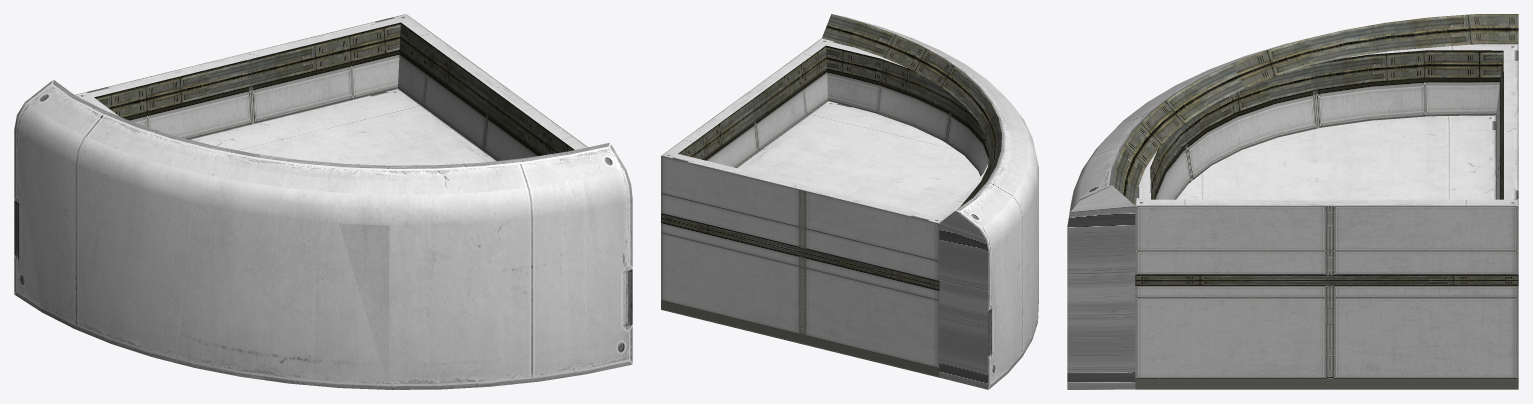
Rendered from Emb_BalconyPlanter_02.FBX.
The picture shows the model from 3 angles, left to right: view 1: azimuth 30°, elevation 25°; view 2: azimuth 150°, elevation 25°; view 3: azimuth 270°, elevation 25°; orthographic projection. The views are drawn at different scales.
Visible parts, largest first — view 1: Emb_BalconyPlanter_02; view 2: Emb_BalconyPlanter_02; view 3: Emb_BalconyPlanter_02.
Boxes of the visible parts, x1,y1,x2,y2 form: Emb_BalconyPlanter_02: (14, 14, 632, 389); Emb_BalconyPlanter_02: (661, 14, 1038, 389); Emb_BalconyPlanter_02: (1067, 14, 1518, 389).
Bounding box in the file's own units: 2 × 1 × 2.
